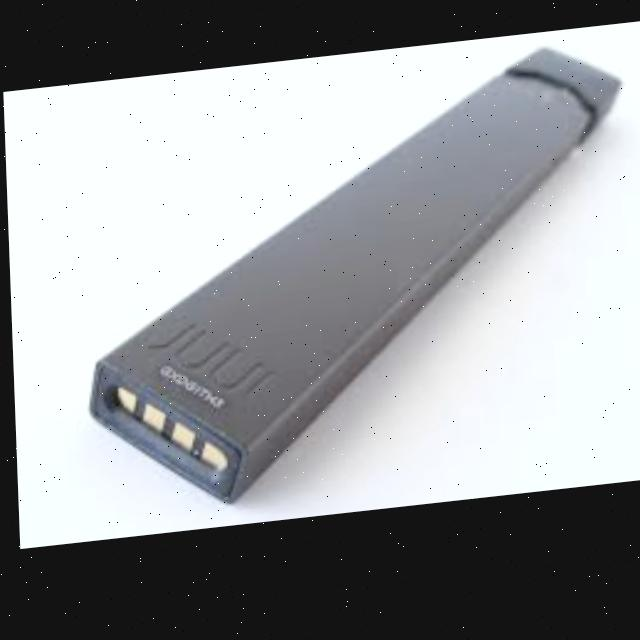vape: (76, 52, 632, 522)
